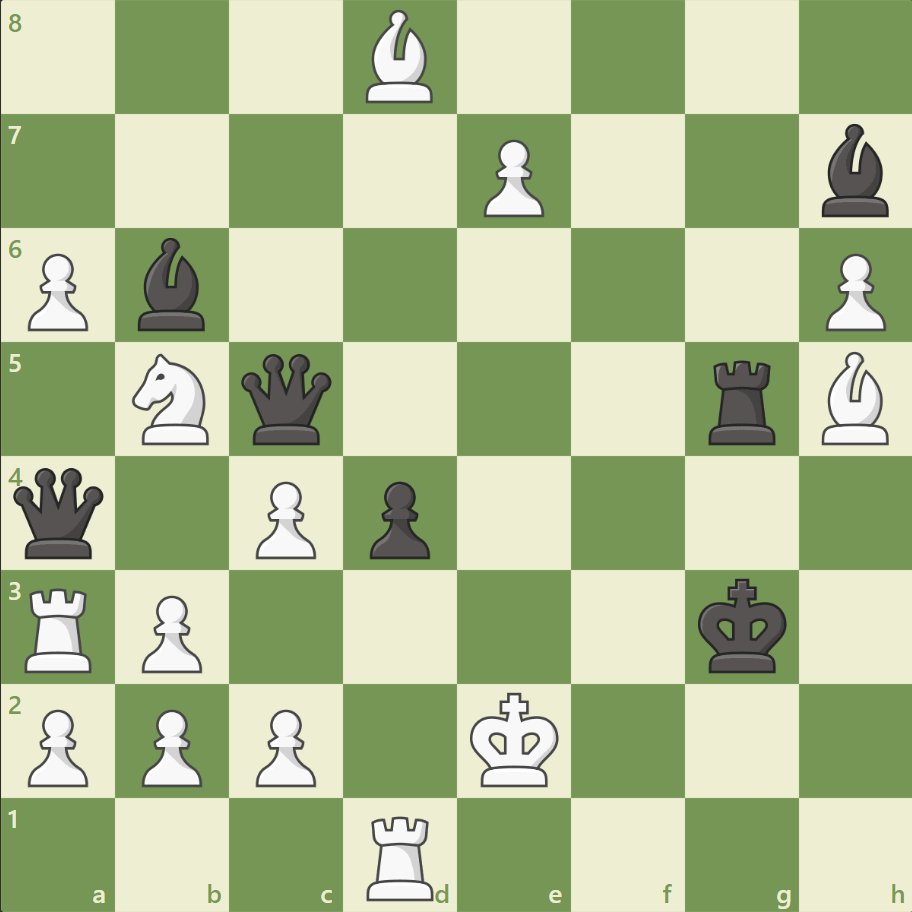B: (358, 6, 442, 109), (812, 347, 896, 449)
K: (465, 685, 565, 793)
N: (124, 348, 222, 450)
P: (474, 132, 549, 223), (20, 246, 95, 337), (247, 473, 322, 564), (133, 586, 208, 677), (20, 700, 95, 791), (133, 700, 208, 791), (247, 700, 322, 791), (815, 246, 889, 337)
R: (19, 579, 102, 676), (360, 806, 442, 904)
b: (131, 233, 215, 336), (812, 120, 896, 222)
k: (692, 571, 792, 679)
p: (361, 473, 435, 564)
q: (237, 349, 336, 449), (10, 463, 109, 562)
r: (700, 352, 783, 449)
